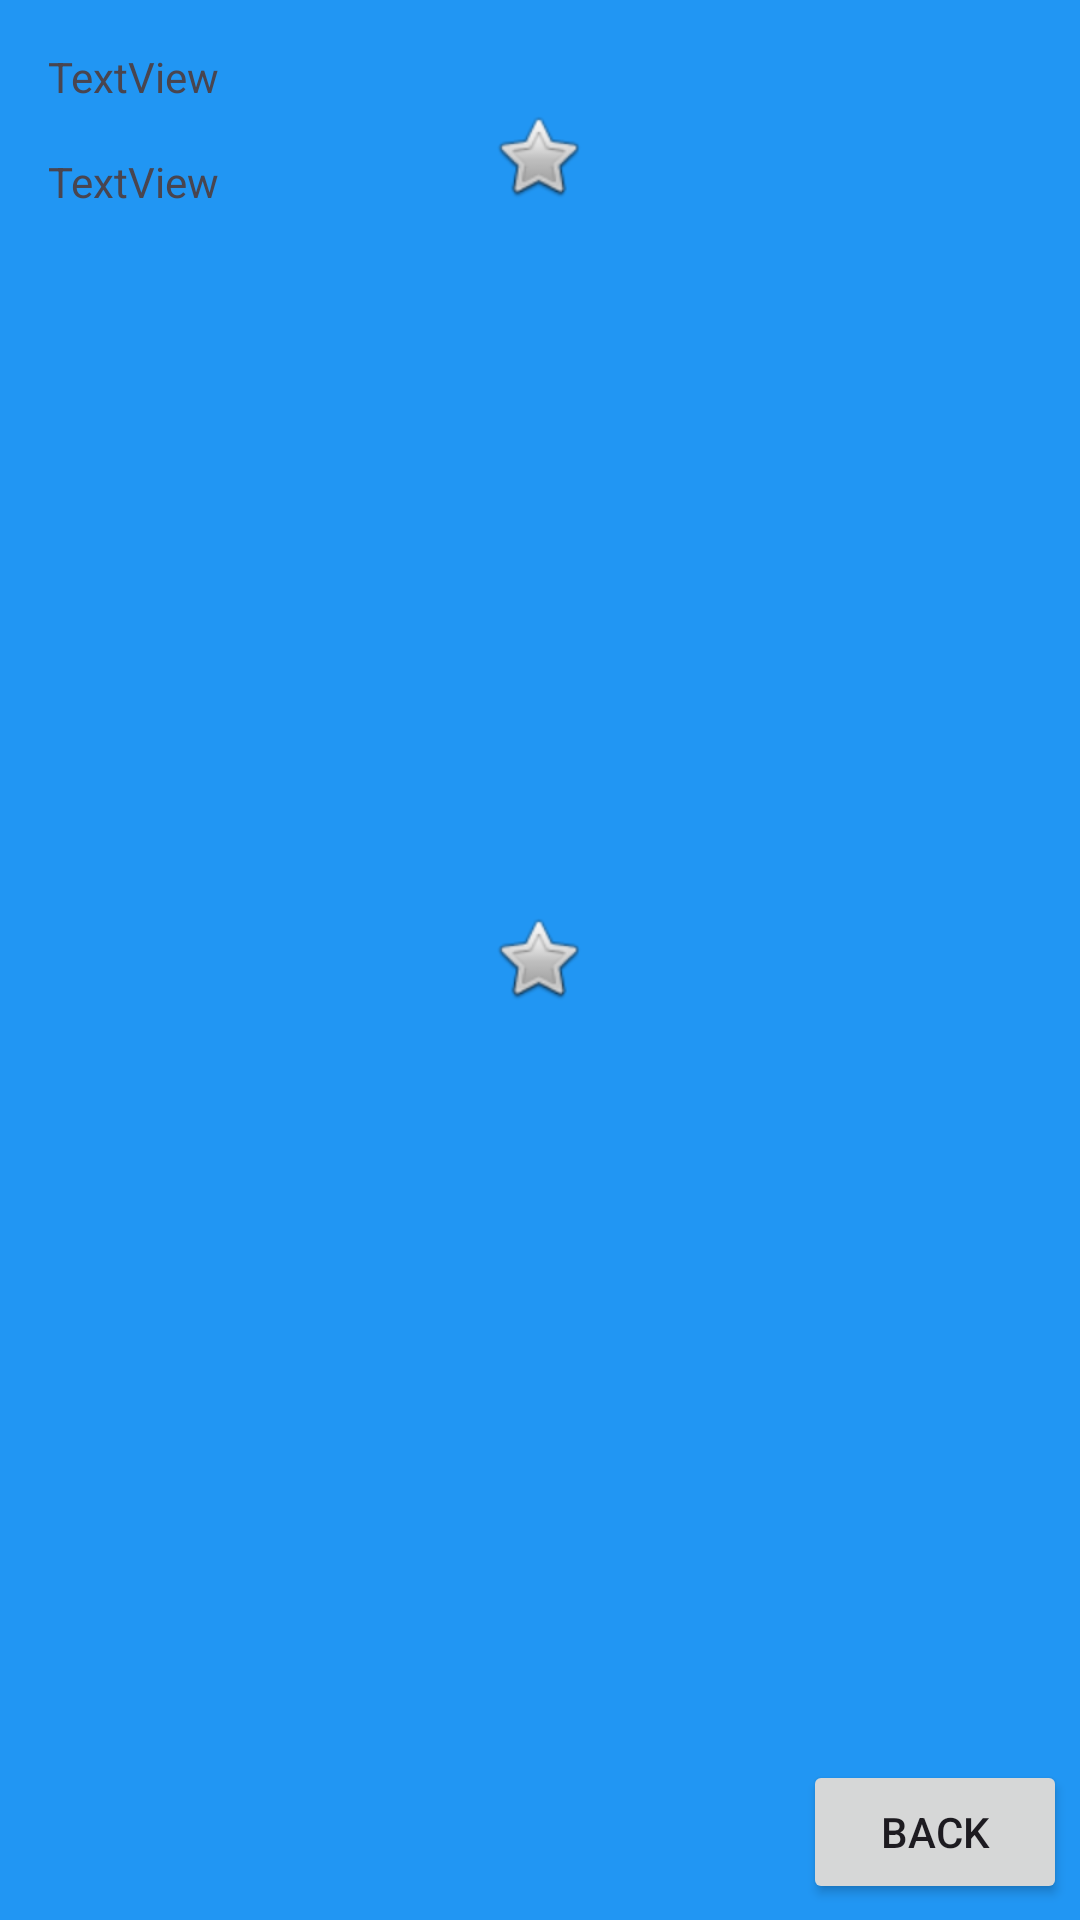

Locate icon controls on the screen. Image size 1080 x 1920, boxes as BBox(x1, y1, x2, y2).
star: BBox(499, 118, 579, 196), BBox(499, 920, 579, 998)
